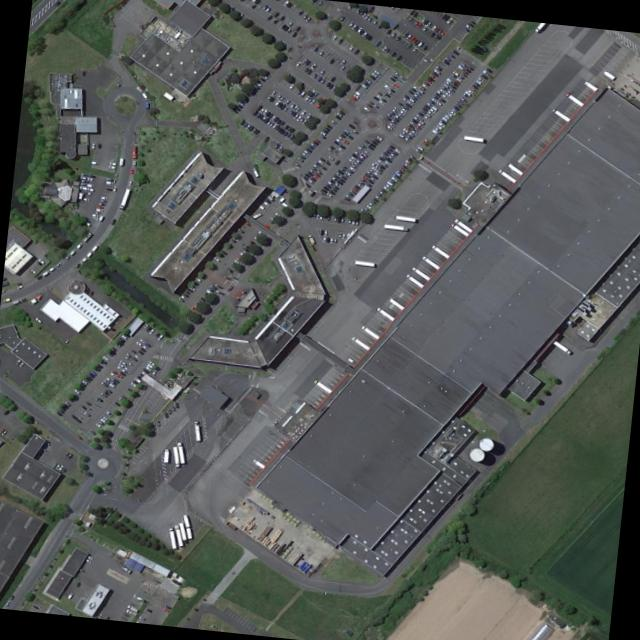large-vehicle: (454, 217, 473, 232), (497, 167, 516, 182), (564, 90, 583, 105), (551, 106, 570, 121), (406, 272, 424, 287), (313, 377, 331, 392), (421, 254, 440, 268), (411, 265, 430, 279), (360, 324, 379, 338), (450, 221, 469, 235), (552, 339, 571, 353), (431, 243, 449, 257), (351, 335, 369, 349), (118, 187, 130, 208), (376, 306, 394, 319), (176, 440, 185, 462), (388, 297, 404, 309), (183, 513, 191, 537), (507, 162, 523, 174), (174, 523, 183, 544), (383, 223, 408, 230), (168, 526, 176, 547), (583, 79, 597, 90), (179, 520, 187, 539), (394, 214, 415, 221), (463, 134, 484, 141), (172, 445, 179, 465), (354, 259, 375, 265), (194, 419, 200, 440), (81, 230, 92, 241), (132, 592, 144, 601), (163, 446, 170, 461), (118, 564, 131, 572), (125, 607, 138, 615), (306, 233, 315, 244), (126, 603, 138, 611), (251, 210, 262, 218), (131, 143, 137, 157), (251, 166, 259, 176), (276, 195, 285, 202), (266, 194, 274, 201), (274, 210, 282, 217), (281, 200, 289, 207), (258, 203, 266, 210), (262, 199, 270, 205), (226, 266, 234, 272), (257, 229, 265, 235), (209, 283, 217, 289), (249, 238, 256, 244), (243, 245, 250, 251), (229, 236, 236, 242), (237, 226, 244, 232), (199, 295, 206, 301), (337, 213, 342, 221), (205, 288, 213, 293), (351, 215, 355, 224), (236, 255, 242, 261), (232, 234, 238, 240), (315, 211, 320, 218), (270, 215, 277, 220), (268, 218, 275, 223), (263, 222, 270, 227), (264, 197, 271, 202), (191, 305, 198, 310), (245, 220, 252, 225), (205, 290, 212, 295), (326, 211, 330, 219), (341, 213, 345, 221), (341, 231, 346, 237), (332, 237, 337, 243), (239, 250, 245, 255), (233, 258, 239, 263), (318, 211, 322, 218), (320, 228, 324, 235), (355, 216, 359, 223), (202, 293, 209, 297), (312, 210, 316, 216), (338, 231, 342, 237), (329, 236, 333, 242), (326, 235, 330, 241), (323, 235, 327, 241), (334, 212, 337, 220), (324, 228, 327, 235), (348, 215, 351, 222)
small-vehicle: (171, 577, 182, 585), (141, 90, 149, 100), (10, 297, 21, 304), (135, 84, 144, 92), (339, 56, 347, 64), (336, 35, 344, 43), (36, 256, 45, 263), (441, 57, 450, 64), (246, 123, 254, 130), (265, 13, 273, 20), (249, 1, 257, 8), (298, 89, 306, 96), (287, 82, 295, 89), (310, 61, 317, 69), (329, 83, 337, 90), (305, 67, 313, 74), (83, 409, 91, 416), (2, 407, 10, 414), (133, 375, 141, 382), (66, 591, 74, 598), (68, 247, 76, 254), (41, 268, 49, 275), (34, 315, 42, 322), (75, 240, 82, 248), (85, 249, 93, 256), (79, 255, 87, 262), (147, 326, 154, 334), (439, 117, 447, 124), (383, 90, 391, 97), (381, 43, 388, 51), (354, 89, 362, 96), (407, 14, 415, 21), (384, 113, 392, 120), (319, 163, 327, 170), (347, 43, 355, 50), (347, 121, 355, 128), (2, 296, 11, 302), (119, 332, 128, 338), (136, 336, 145, 342), (104, 387, 113, 393), (451, 69, 460, 75), (434, 64, 443, 70), (349, 117, 358, 123), (302, 148, 311, 154), (105, 176, 115, 181), (118, 156, 123, 166), (251, 108, 258, 115), (110, 216, 117, 223), (253, 127, 260, 134), (328, 56, 335, 63), (261, 2, 268, 9), (264, 4, 271, 11), (294, 60, 301, 67), (303, 93, 310, 100), (282, 23, 289, 30), (338, 63, 345, 70), (324, 80, 331, 87), (319, 76, 326, 83), (316, 74, 323, 81), (311, 70, 318, 77), (302, 56, 309, 63), (297, 8, 304, 15), (292, 111, 299, 118), (263, 134, 270, 141), (276, 143, 283, 150), (64, 252, 71, 259), (14, 357, 21, 364), (18, 359, 25, 366), (91, 243, 98, 250), (84, 218, 91, 225), (423, 102, 430, 109), (446, 16, 453, 23), (399, 73, 406, 80), (390, 49, 397, 56), (395, 53, 402, 60), (407, 34, 414, 41), (415, 20, 422, 27), (413, 18, 420, 25), (313, 170, 320, 177), (362, 12, 369, 19), (366, 33, 373, 40), (347, 19, 354, 26), (353, 47, 360, 54), (371, 172, 378, 179), (386, 153, 393, 160), (252, 82, 260, 88), (254, 80, 262, 86), (86, 185, 94, 191), (278, 14, 286, 20), (272, 10, 280, 16), (302, 65, 310, 71), (89, 428, 97, 434), (61, 402, 69, 408), (75, 433, 83, 439), (96, 418, 104, 424), (142, 367, 150, 373), (105, 409, 113, 415), (161, 605, 169, 611), (146, 362, 154, 368), (53, 260, 61, 266), (29, 267, 37, 273), (101, 354, 109, 360), (99, 357, 107, 363), (97, 213, 103, 221), (177, 295, 185, 301), (119, 358, 127, 364), (124, 351, 132, 357), (143, 340, 151, 346), (84, 399, 92, 405), (100, 380, 108, 386), (108, 381, 116, 387), (441, 92, 449, 98), (438, 96, 446, 102), (452, 78, 460, 84), (454, 44, 462, 50), (456, 63, 464, 69), (445, 76, 453, 82), (476, 75, 484, 81), (474, 77, 482, 83), (471, 82, 479, 88), (459, 95, 467, 101), (448, 108, 456, 114), (437, 120, 445, 126), (481, 68, 489, 74), (485, 66, 493, 72), (408, 119, 416, 125), (403, 135, 411, 141), (411, 125, 419, 131), (409, 127, 417, 133), (407, 130, 415, 136), (397, 131, 405, 137), (451, 48, 459, 54), (350, 94, 358, 100), (360, 82, 368, 88), (364, 77, 372, 83), (368, 73, 376, 79), (396, 76, 404, 82), (388, 75, 396, 81), (382, 82, 390, 88), (385, 88, 393, 94), (367, 98, 375, 104), (433, 67, 441, 73), (388, 109, 396, 115), (433, 125, 441, 131), (431, 127, 439, 133), (315, 168, 323, 174), (309, 175, 317, 181), (338, 165, 346, 171), (324, 182, 332, 188), (322, 184, 330, 190), (351, 127, 359, 133), (329, 75, 337, 81), (293, 160, 301, 166), (296, 155, 304, 161), (342, 127, 350, 133), (313, 136, 321, 142), (305, 146, 313, 152), (300, 150, 308, 156), (350, 151, 358, 157), (356, 144, 364, 150), (366, 177, 374, 183), (376, 165, 384, 171), (378, 163, 386, 169), (367, 200, 375, 206), (414, 146, 422, 152), (373, 193, 381, 199), (356, 155, 364, 161), (352, 159, 360, 165), (362, 148, 370, 154), (367, 143, 375, 149), (373, 136, 381, 142), (362, 171, 370, 177), (357, 178, 365, 184), (332, 183, 340, 189), (163, 603, 172, 608), (117, 336, 126, 341), (443, 55, 452, 60), (244, 122, 251, 128), (259, 75, 266, 81), (256, 103, 263, 109), (311, 90, 318, 96), (285, 26, 292, 32), (280, 22, 287, 28), (328, 82, 335, 88), (318, 68, 325, 74), (291, 29, 297, 36), (305, 58, 311, 65), (305, 111, 311, 118), (298, 115, 305, 121), (279, 127, 286, 133), (284, 131, 291, 137), (268, 119, 275, 125), (263, 115, 269, 122), (288, 125, 295, 131), (278, 119, 285, 125), (273, 141, 280, 147), (268, 95, 275, 101), (4, 598, 10, 605), (64, 399, 71, 405), (0, 428, 7, 434), (66, 451, 72, 458), (94, 421, 101, 427), (140, 369, 147, 375), (130, 380, 137, 386), (125, 385, 132, 391), (117, 394, 124, 400), (99, 416, 106, 422), (166, 406, 172, 413), (102, 414, 109, 420), (8, 592, 14, 599), (157, 332, 163, 339), (48, 264, 55, 270), (110, 345, 117, 351), (194, 275, 201, 281), (220, 248, 227, 254), (182, 290, 189, 296), (88, 371, 95, 377), (135, 339, 142, 345), (115, 363, 122, 369), (133, 352, 140, 358), (137, 348, 144, 354), (118, 369, 125, 375), (74, 387, 81, 393), (116, 371, 123, 377), (103, 377, 110, 383), (108, 370, 115, 376), (442, 81, 449, 87), (428, 98, 435, 104), (449, 83, 456, 89), (441, 12, 448, 18), (443, 14, 450, 20), (465, 22, 471, 29), (450, 72, 457, 78), (422, 105, 429, 111), (462, 91, 469, 97), (446, 110, 453, 116), (480, 72, 487, 78), (414, 122, 421, 128), (423, 113, 430, 119), (402, 126, 409, 132), (375, 39, 382, 45), (391, 73, 398, 79), (393, 70, 400, 76), (385, 45, 391, 52), (414, 37, 420, 44), (439, 27, 445, 34), (409, 8, 416, 14), (405, 32, 412, 38), (402, 30, 409, 36), (395, 33, 401, 40), (412, 9, 418, 16), (417, 87, 424, 93), (423, 79, 430, 85), (398, 107, 405, 113), (394, 113, 401, 119), (373, 102, 380, 108), (386, 111, 393, 117), (386, 123, 393, 129), (311, 172, 318, 178), (307, 177, 314, 183), (304, 181, 311, 187), (308, 166, 315, 172), (310, 164, 317, 170), (312, 162, 319, 168), (335, 170, 342, 176), (310, 189, 316, 196), (335, 136, 342, 142), (423, 136, 430, 142), (360, 10, 367, 16), (364, 31, 370, 38), (358, 27, 365, 33), (356, 25, 362, 32), (353, 24, 360, 30), (350, 22, 357, 28), (339, 14, 346, 20), (336, 110, 343, 116), (335, 113, 342, 119), (326, 122, 333, 128), (319, 129, 326, 135), (365, 181, 372, 187), (369, 175, 376, 181), (373, 170, 380, 176), (381, 160, 388, 166), (392, 172, 399, 178), (421, 139, 428, 145), (417, 144, 424, 150), (386, 179, 393, 185), (379, 152, 386, 158), (344, 169, 351, 175), (348, 164, 355, 170), (350, 161, 357, 167), (361, 150, 368, 156), (371, 138, 378, 144), (370, 161, 377, 167), (365, 168, 372, 174), (86, 182, 94, 187), (104, 179, 114, 183), (137, 371, 145, 376), (156, 418, 161, 426), (145, 606, 153, 611), (15, 283, 23, 288), (179, 293, 187, 298), (126, 360, 134, 365), (130, 355, 138, 360), (120, 367, 128, 372), (102, 389, 110, 394), (100, 391, 108, 396), (110, 379, 118, 384), (443, 79, 451, 84), (447, 86, 455, 91), (431, 93, 439, 98), (435, 100, 443, 105), (454, 76, 462, 81), (412, 115, 420, 120), (410, 117, 418, 122), (403, 124, 411, 129), (370, 71, 378, 76), (373, 68, 381, 73), (404, 102, 412, 107), (301, 174, 309, 179), (316, 158, 324, 163), (319, 187, 327, 192), (317, 189, 325, 194), (346, 133, 354, 138), (329, 118, 337, 123), (318, 133, 326, 138), (307, 143, 315, 148), (374, 168, 382, 173), (381, 150, 389, 155), (364, 203, 372, 208), (404, 158, 412, 163), (377, 155, 385, 160), (354, 158, 362, 163), (358, 153, 366, 158), (336, 179, 344, 184), (355, 181, 363, 186), (348, 188, 356, 193), (343, 195, 351, 200), (423, 43, 429, 49), (250, 126, 256, 132), (242, 121, 248, 127), (239, 118, 245, 124), (232, 107, 238, 113), (287, 19, 293, 25), (54, 0, 60, 6), (307, 95, 313, 101), (300, 108, 306, 114), (302, 12, 308, 18), (260, 114, 266, 120), (275, 117, 281, 123), (265, 110, 271, 116), (274, 123, 280, 129), (294, 105, 300, 111), (63, 450, 69, 456), (60, 466, 66, 472), (174, 401, 180, 407), (94, 207, 103, 211), (213, 255, 219, 261), (188, 282, 197, 286), (184, 288, 190, 294), (80, 380, 86, 386), (430, 30, 436, 36), (426, 100, 432, 106), (429, 106, 435, 112), (425, 111, 431, 117), (465, 89, 471, 95), (453, 103, 459, 109), (415, 112, 421, 118), (401, 129, 407, 135), (353, 92, 359, 98), (434, 25, 440, 31), (431, 23, 437, 29), (417, 40, 423, 46), (390, 30, 396, 36), (380, 95, 386, 101), (331, 174, 337, 180), (366, 15, 372, 21), (361, 30, 367, 36), (331, 33, 337, 39), (394, 169, 400, 175), (376, 134, 382, 140), (368, 166, 374, 172), (329, 188, 335, 194), (236, 102, 243, 107), (234, 105, 241, 110), (81, 171, 88, 176), (109, 160, 116, 165), (131, 159, 136, 166), (309, 98, 316, 103), (282, 0, 289, 5), (304, 15, 311, 20), (286, 124, 291, 131), (276, 126, 283, 131), (291, 103, 298, 108), (278, 94, 285, 99), (279, 103, 286, 108), (75, 417, 82, 422), (70, 413, 77, 418), (59, 405, 66, 410), (57, 407, 64, 412), (57, 464, 64, 469), (120, 393, 127, 398), (113, 400, 120, 405), (163, 410, 168, 417), (86, 554, 93, 559), (138, 614, 145, 619), (144, 364, 151, 369), (148, 359, 155, 364), (96, 362, 103, 367), (186, 286, 193, 291), (90, 369, 97, 374), (117, 361, 124, 366), (124, 355, 131, 360), (140, 346, 147, 351), (141, 344, 148, 349), (122, 364, 129, 369), (85, 373, 92, 378), (83, 376, 90, 381), (81, 378, 88, 383), (96, 396, 103, 401), (113, 377, 120, 382), (111, 368, 118, 373), (317, 49, 324, 54), (440, 84, 447, 89), (445, 88, 452, 93), (434, 91, 441, 96), (430, 104, 437, 109), (451, 81, 458, 86), (469, 18, 476, 23), (467, 21, 474, 26), (466, 64, 473, 69), (464, 66, 471, 71), (460, 71, 467, 76), (448, 52, 455, 57), (457, 99, 464, 104), (441, 115, 448, 120), (417, 110, 424, 115), (416, 121, 423, 126), (406, 122, 413, 127), (406, 133, 413, 138), (363, 80, 370, 85), (388, 86, 395, 91), (376, 89, 383, 94), (402, 104, 409, 109), (406, 99, 413, 104), (408, 96, 415, 101), (411, 94, 418, 99), (412, 92, 419, 97), (415, 90, 422, 95), (407, 88, 414, 93), (409, 86, 416, 91), (411, 83, 418, 88), (418, 84, 425, 89), (421, 82, 428, 87), (372, 94, 379, 99), (366, 102, 373, 107), (403, 93, 410, 98), (392, 116, 399, 121), (388, 121, 395, 126), (390, 118, 397, 123), (336, 134, 343, 139), (306, 169, 313, 174), (314, 160, 321, 165), (327, 154, 334, 159), (328, 177, 335, 182), (341, 163, 348, 168), (337, 168, 344, 173), (326, 179, 333, 184), (338, 143, 345, 148), (342, 138, 349, 143), (312, 139, 319, 144), (309, 141, 316, 146), (383, 158, 390, 163), (385, 156, 392, 161), (389, 151, 396, 156), (391, 149, 398, 154), (388, 143, 395, 148), (383, 148, 390, 153), (370, 198, 377, 203), (401, 163, 408, 168), (398, 165, 405, 170), (390, 175, 397, 180), (388, 177, 395, 182), (382, 184, 389, 189), (379, 187, 386, 192), (376, 158, 383, 163), (342, 172, 349, 177), (369, 141, 376, 146), (363, 138, 370, 143), (338, 176, 345, 181), (334, 181, 341, 186), (369, 164, 376, 169), (360, 176, 367, 181), (353, 183, 360, 188), (344, 192, 351, 197), (330, 186, 337, 191), (145, 101, 149, 109), (87, 173, 95, 177), (82, 196, 90, 200), (90, 160, 98, 164), (99, 195, 107, 199), (98, 197, 106, 201), (97, 201, 105, 205), (96, 203, 104, 207), (90, 212, 98, 216), (473, 81, 481, 85), (112, 184, 117, 190), (90, 142, 95, 148), (302, 117, 307, 123), (295, 25, 301, 30), (259, 106, 264, 112), (296, 114, 302, 119), (282, 129, 288, 134), (271, 122, 277, 127), (266, 118, 271, 124), (255, 111, 261, 116), (284, 123, 289, 129), (273, 114, 278, 120), (268, 111, 273, 117), (262, 107, 267, 113), (291, 110, 297, 115), (288, 108, 294, 113), (289, 101, 295, 106), (284, 98, 289, 104), (277, 101, 283, 106), (274, 99, 280, 104), (270, 89, 276, 94), (266, 93, 271, 99), (56, 409, 62, 414), (55, 463, 61, 468), (136, 373, 142, 378), (133, 378, 139, 383), (171, 404, 176, 410), (64, 337, 70, 342), (130, 347, 136, 352), (143, 322, 149, 327), (155, 330, 160, 336), (105, 375, 111, 380), (439, 86, 445, 91), (436, 88, 442, 93), (444, 90, 450, 95), (459, 61, 465, 66), (464, 26, 470, 31), (462, 68, 468, 73), (420, 108, 426, 113), (456, 102, 462, 107), (451, 106, 457, 111), (444, 113, 450, 118), (313, 45, 318, 51), (392, 81, 398, 86), (426, 20, 432, 25), (423, 18, 429, 23), (421, 16, 426, 22), (401, 106, 407, 111), (429, 72, 435, 77), (432, 70, 438, 75), (397, 111, 403, 116), (375, 93, 381, 98), (363, 105, 369, 110), (397, 100, 403, 105), (393, 105, 399, 110), (391, 107, 397, 112), (436, 123, 442, 128), (304, 172, 310, 177), (319, 155, 325, 160), (333, 139, 339, 144), (324, 159, 330, 164), (349, 154, 355, 159), (333, 172, 339, 177), (322, 127, 328, 132), (324, 125, 330, 130), (353, 149, 359, 154), (360, 142, 366, 147), (394, 147, 400, 152), (386, 145, 392, 150), (403, 161, 409, 166), (378, 189, 384, 194), (376, 191, 382, 196), (341, 174, 347, 179), (347, 167, 353, 172), (374, 160, 380, 165), (362, 174, 368, 179), (352, 185, 358, 190), (348, 190, 354, 195), (261, 74, 268, 78), (80, 174, 87, 178), (80, 181, 87, 185), (84, 190, 91, 194), (105, 186, 112, 190), (187, 285, 194, 289), (426, 109, 433, 113), (457, 74, 464, 78), (469, 86, 476, 90), (401, 96, 408, 100), (377, 99, 384, 103), (336, 146, 343, 150), (384, 182, 391, 186), (325, 191, 332, 195), (258, 113, 263, 118), (283, 105, 288, 110), (81, 404, 86, 409), (422, 25, 427, 30), (340, 132, 345, 137), (372, 18, 377, 23), (373, 196, 378, 201), (238, 100, 244, 104), (87, 176, 93, 180), (79, 185, 87, 188), (129, 167, 133, 173), (0, 426, 4, 432), (85, 558, 91, 562), (68, 396, 74, 400), (467, 88, 473, 92), (419, 119, 425, 123), (326, 146, 332, 150), (329, 144, 335, 148), (347, 157, 353, 161), (342, 130, 348, 134), (347, 2, 351, 8), (300, 154, 306, 158), (108, 164, 115, 167), (128, 179, 132, 184), (271, 113, 275, 118), (276, 93, 281, 97), (356, 7, 360, 12), (253, 0, 259, 3), (94, 210, 100, 213), (430, 97, 436, 100)
storage-tank: (478, 436, 495, 451), (468, 446, 485, 461)
